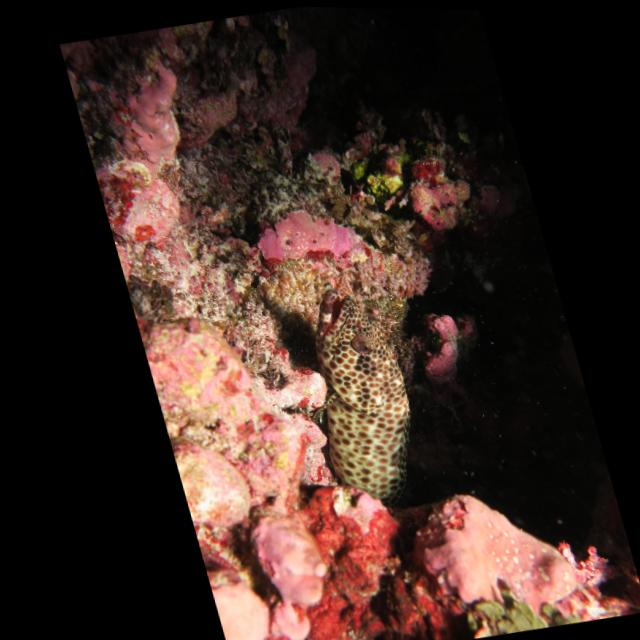Groupers: (276, 277, 439, 518)
